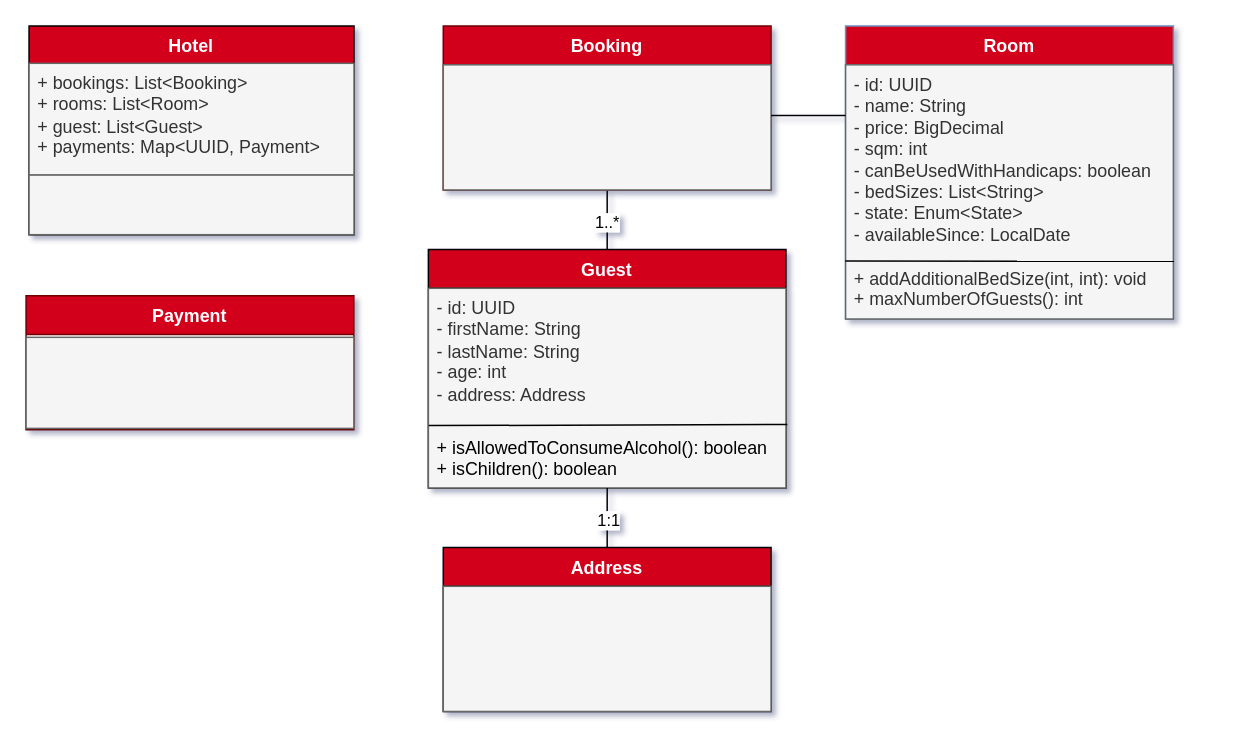
The diagram is 1243 pixels wide and 751 high, and some of its shapes have lost their labels. The shapes that lost their labels are listed below. From the top down, each one's centre as x and y in pixels, then its label:
[606,126]: - id: UUID - room: Room - guests: List<Guest> - from: LocalDate - to: LocalDate
[191,204]: + acceptsCrediCards (): boolean + isHandicapFriendlyHotel(): boolean
[189,382]: - booking: Booking - paymentProviderId: String - paymentDate: Date
[606,648]: - street: String - postalCode: Integer - city: String - state: String
